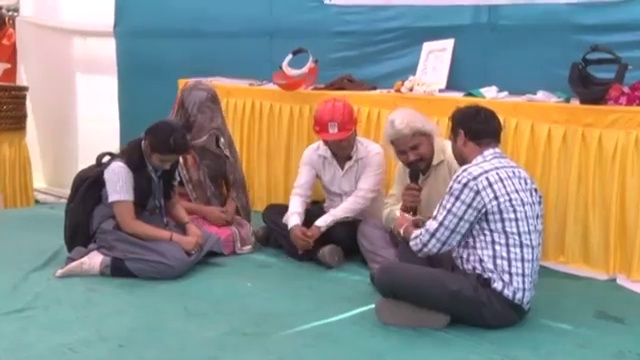helmet: (313, 96, 361, 142)
helmet_off: (445, 103, 506, 170), (386, 111, 442, 174), (173, 80, 227, 145), (133, 118, 191, 175)
helmet_on: (309, 104, 363, 163)
person: (360, 106, 542, 322), (252, 92, 403, 273), (58, 115, 210, 281), (360, 107, 465, 268), (163, 69, 252, 258)
